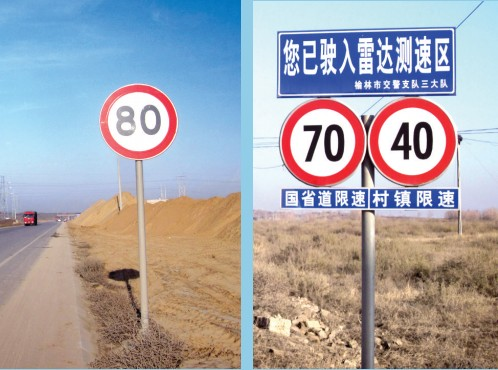Speed_limit_40km: (368, 98, 457, 187)
Speed_limit_70km: (277, 99, 367, 187)
Speed_limit_80km: (99, 85, 179, 161)
